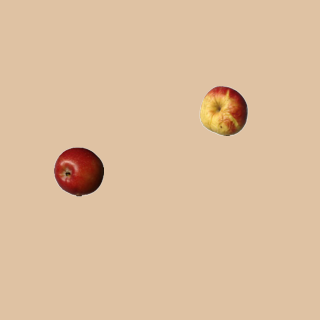Apple Braeburn: (53, 146, 103, 196)
Apple Red Yellow 1: (198, 85, 248, 135)
